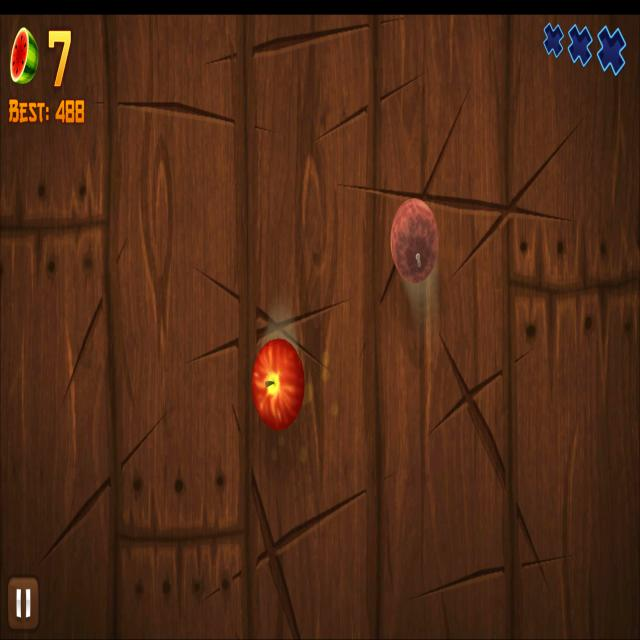fruit: (253, 340, 305, 431), (391, 197, 439, 285)
